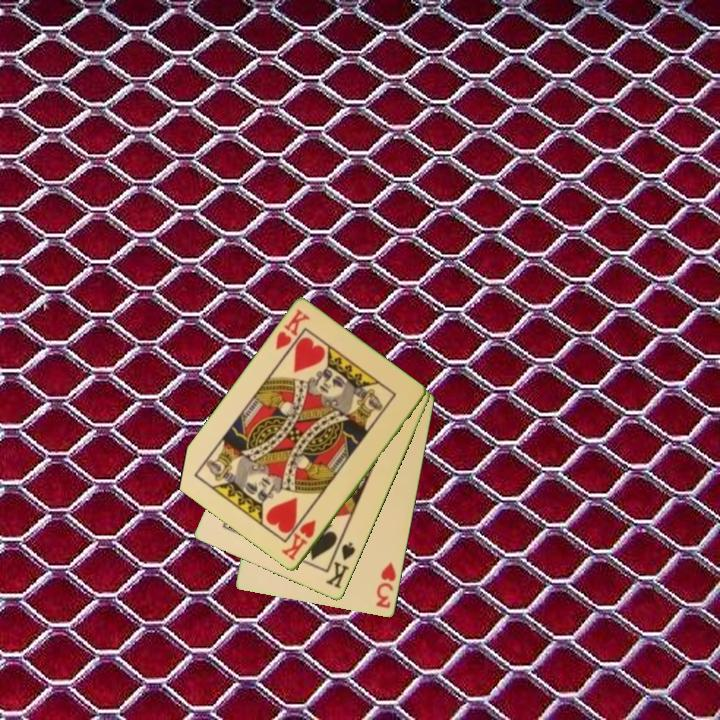3h: (372, 558, 399, 612)
Kh: (278, 517, 319, 564), (272, 306, 313, 353)
Ks: (322, 536, 358, 592)
